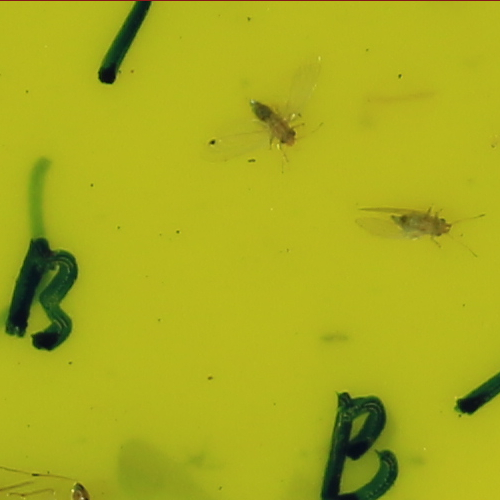Glycaspis: (250, 100, 298, 151), (388, 205, 451, 240)
